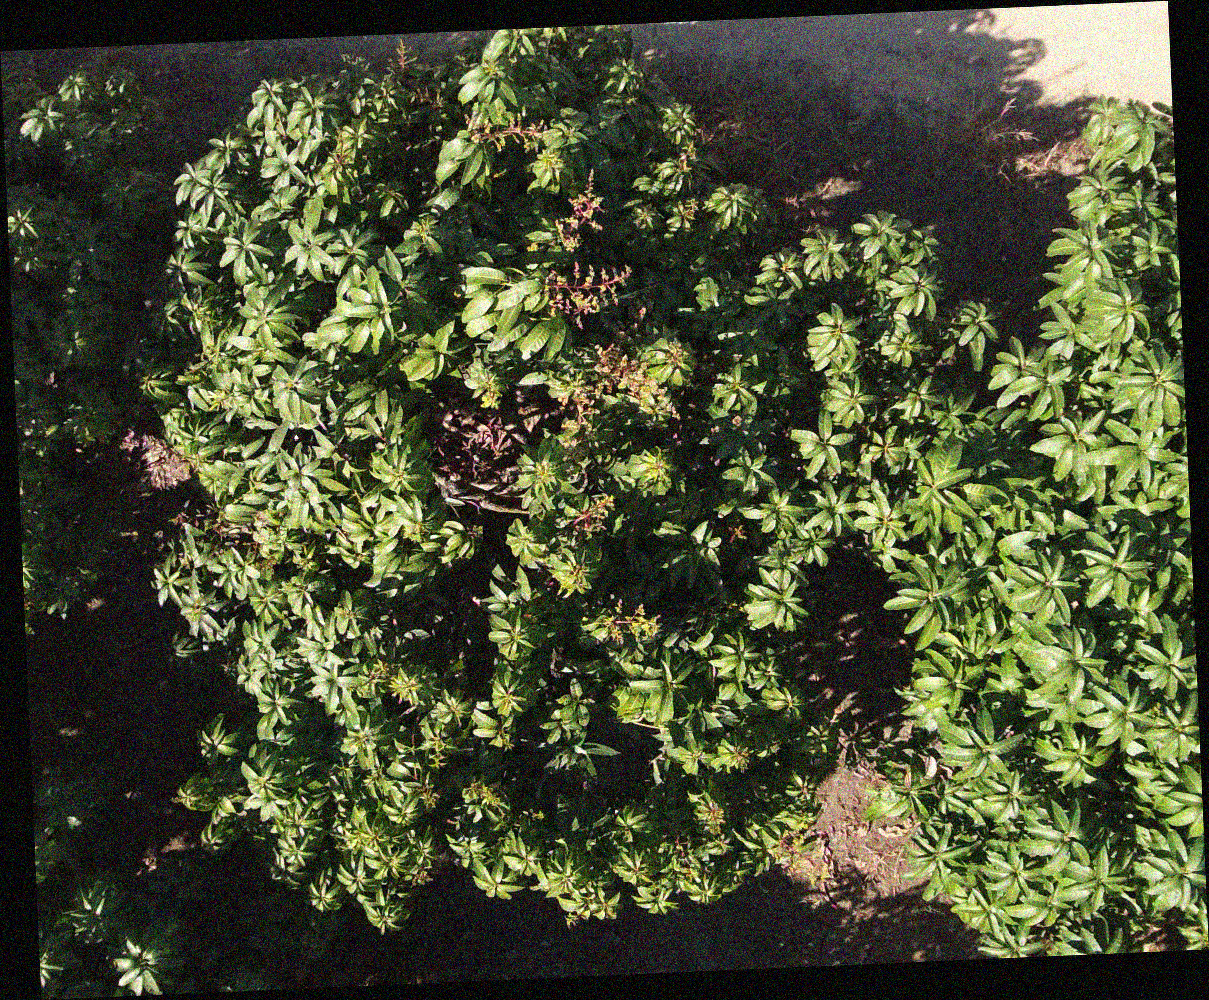flowers: (593, 343, 676, 417), (544, 260, 633, 328), (557, 171, 603, 251), (572, 495, 616, 536)
